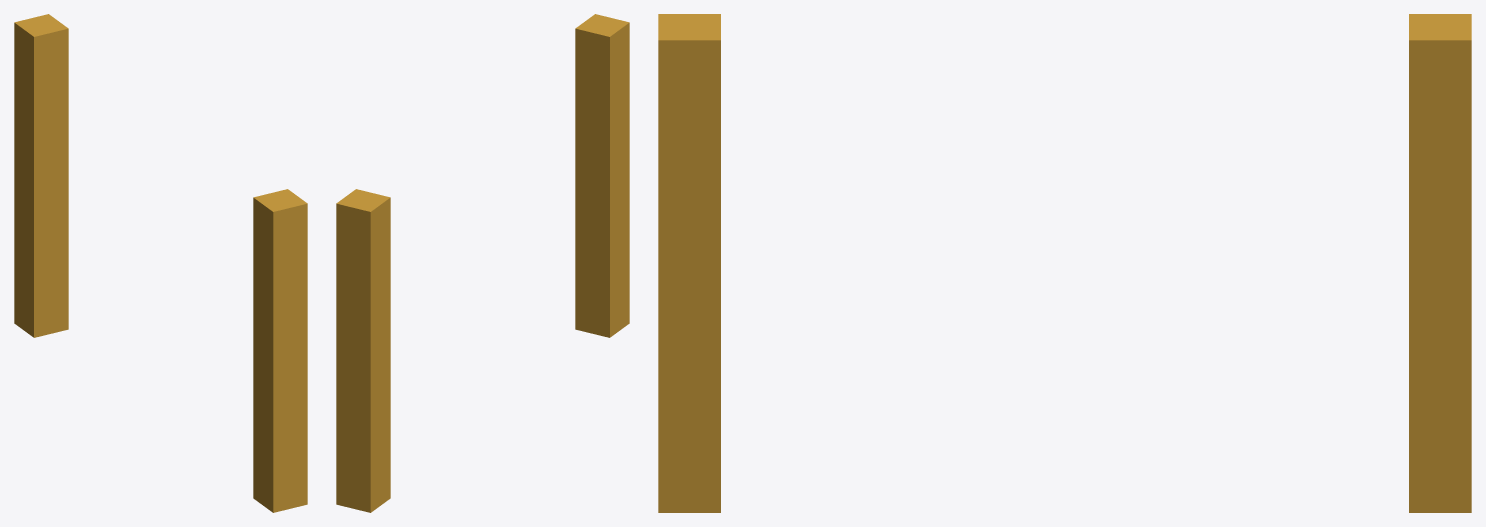
Rendered from RoyalGold.fbx.
3 views of the same model, side by side, from view 1: azimuth 30°, elevation 25°; view 2: azimuth 150°, elevation 25°; view 3: azimuth 270°, elevation 25° (orthographic). The views are drawn at different scales.
Visible parts, largest first — view 1: RoyalPost-7.001; view 2: RoyalPost-7.001; view 3: RoyalPost-7.001.
Boxes of the visible parts, <box> form: RoyalPost-7.001: <box>14,14,307,512</box>; RoyalPost-7.001: <box>336,14,629,512</box>; RoyalPost-7.001: <box>658,14,1471,512</box>.
Size of the model in its own units: 120 by 1000 by 1560.
